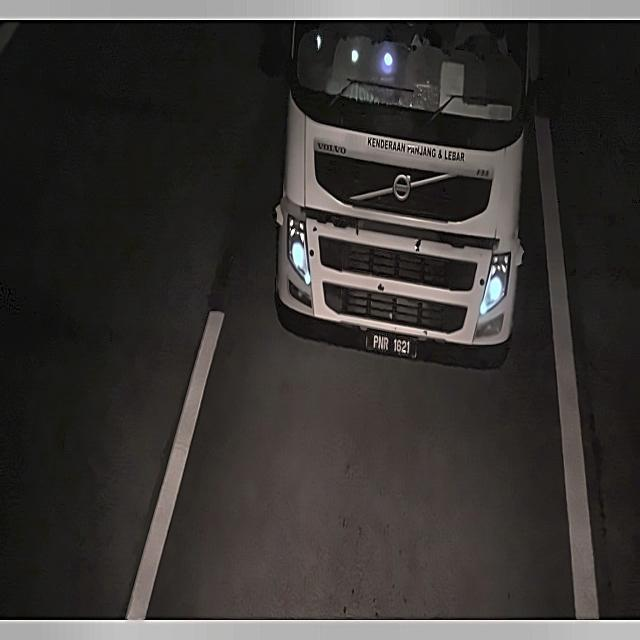car: (361, 326, 423, 366)
